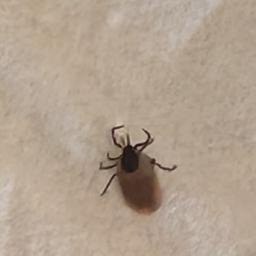Ixodes scapularis: (99, 126, 178, 215)
